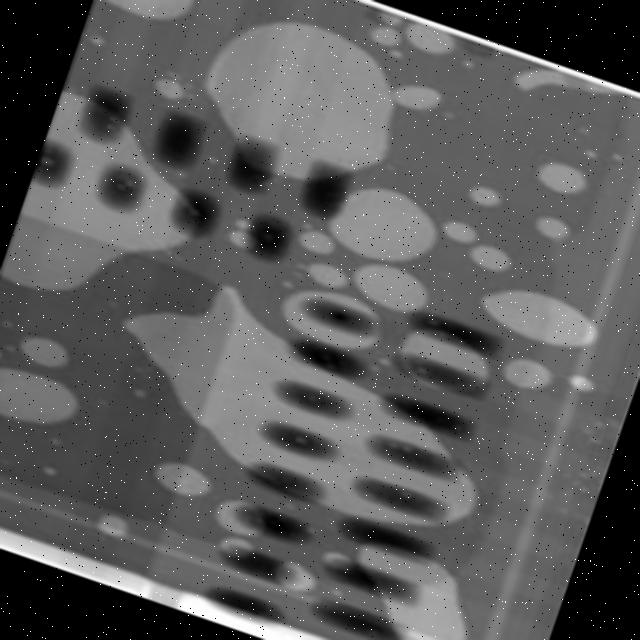chip: (0, 0, 640, 640)
void: (118, 283, 478, 527), (0, 88, 199, 291), (201, 17, 395, 183), (357, 542, 466, 640), (324, 180, 440, 263), (480, 288, 599, 347), (394, 323, 491, 394), (279, 289, 385, 351), (0, 367, 81, 424), (352, 262, 427, 313), (509, 65, 623, 95), (212, 496, 266, 541), (528, 156, 588, 195), (103, 0, 196, 23), (153, 458, 211, 494), (501, 356, 555, 393), (401, 20, 455, 57), (23, 333, 68, 370), (467, 240, 517, 273), (392, 81, 442, 110), (275, 558, 313, 596), (227, 215, 259, 256), (529, 209, 571, 238), (148, 69, 185, 101), (293, 228, 338, 254), (304, 261, 343, 289), (442, 217, 478, 243), (467, 182, 500, 208), (96, 512, 129, 537), (368, 22, 404, 44), (322, 545, 347, 573), (567, 373, 595, 393)
